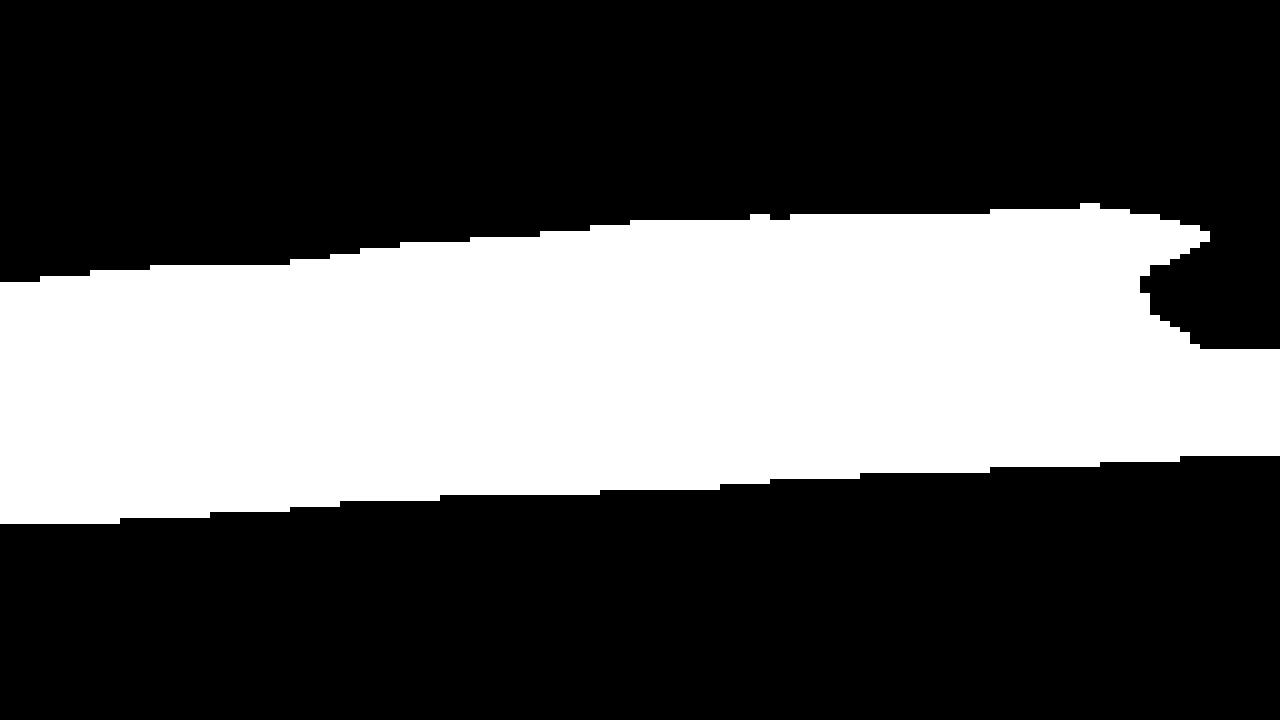Turbine: (3, 178, 1277, 548)
